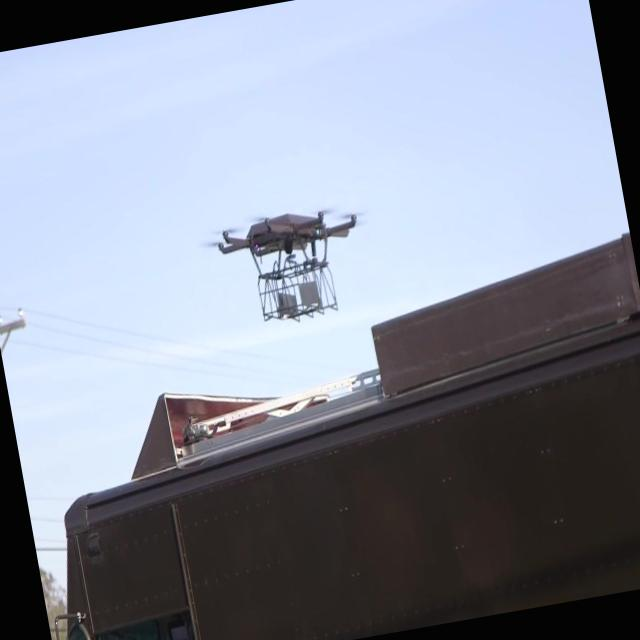drone: (203, 197, 374, 336)
